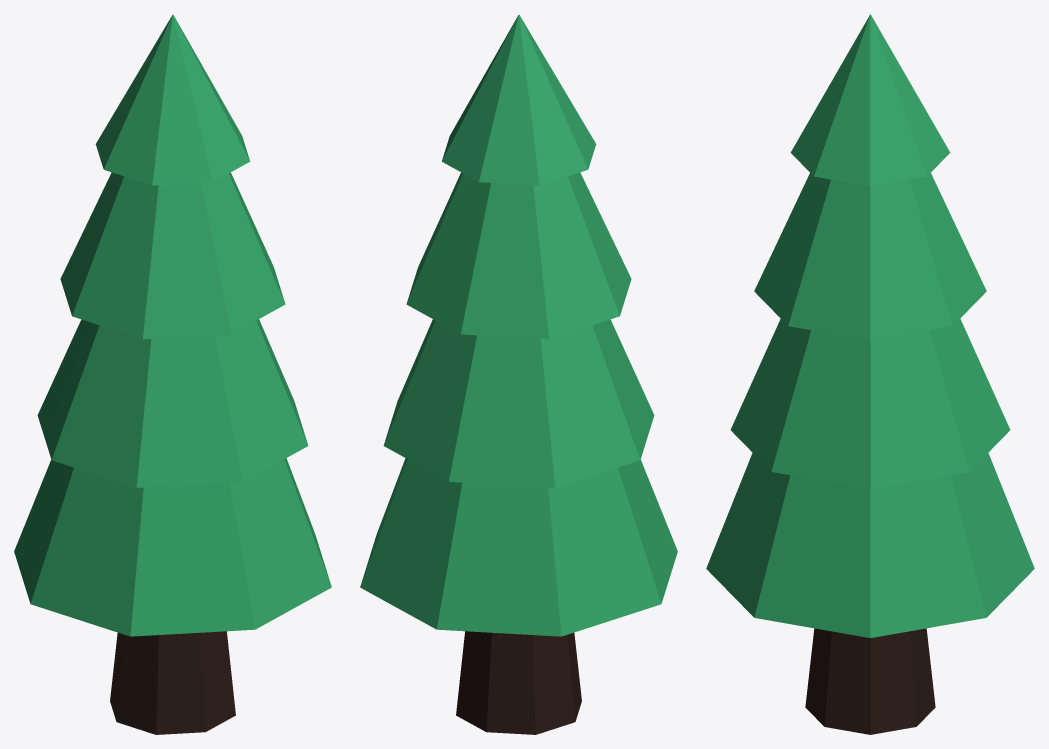
3 renders of one model, left to right at view 1: azimuth 30°, elevation 25°; view 2: azimuth 150°, elevation 25°; view 3: azimuth 270°, elevation 25°, orthographic.
Visible parts, largest first — view 1: Cylinder; view 2: Cylinder; view 3: Cylinder.
Part boxes in pixels (box(x1,y1,x2,y2)): Cylinder: box(14, 14, 331, 734); Cylinder: box(360, 14, 677, 734); Cylinder: box(706, 14, 1034, 734).
Size of the model in its own units: 351 by 817 by 351.
